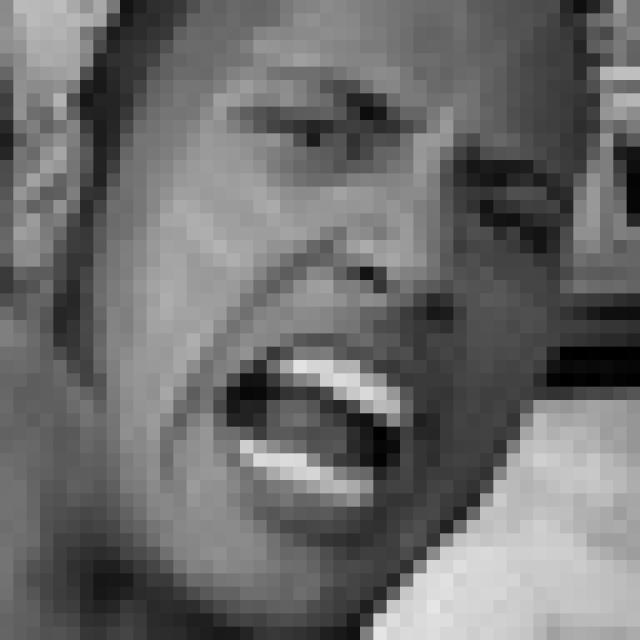angry: (212, 55, 574, 536)
